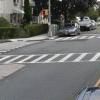Crosswalk: (10, 41, 100, 83)
